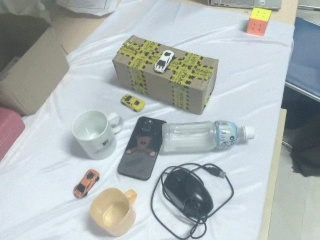bottle: (158, 116, 256, 155)
box: (112, 34, 219, 117), (1, 9, 70, 118)
cup: (70, 107, 124, 161), (89, 186, 139, 238)
mouse: (161, 164, 216, 221)
phone: (116, 115, 165, 184)
toy_car: (72, 168, 100, 200), (120, 94, 146, 113), (155, 49, 174, 75)
